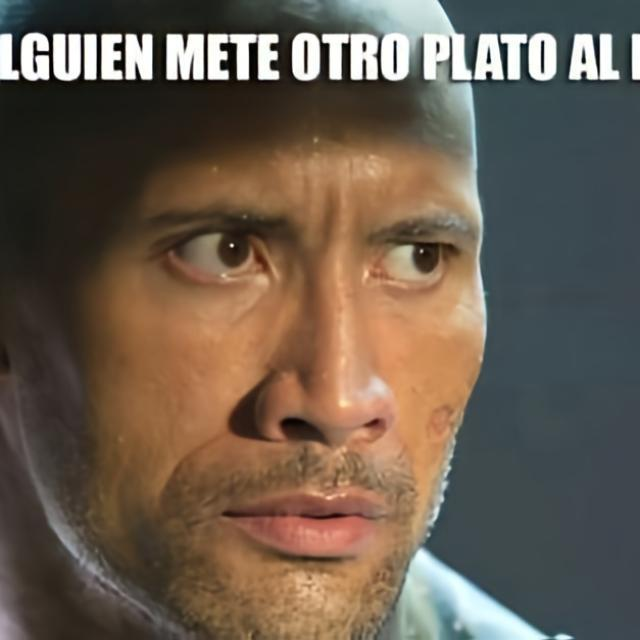anger: (4, 86, 490, 640)
